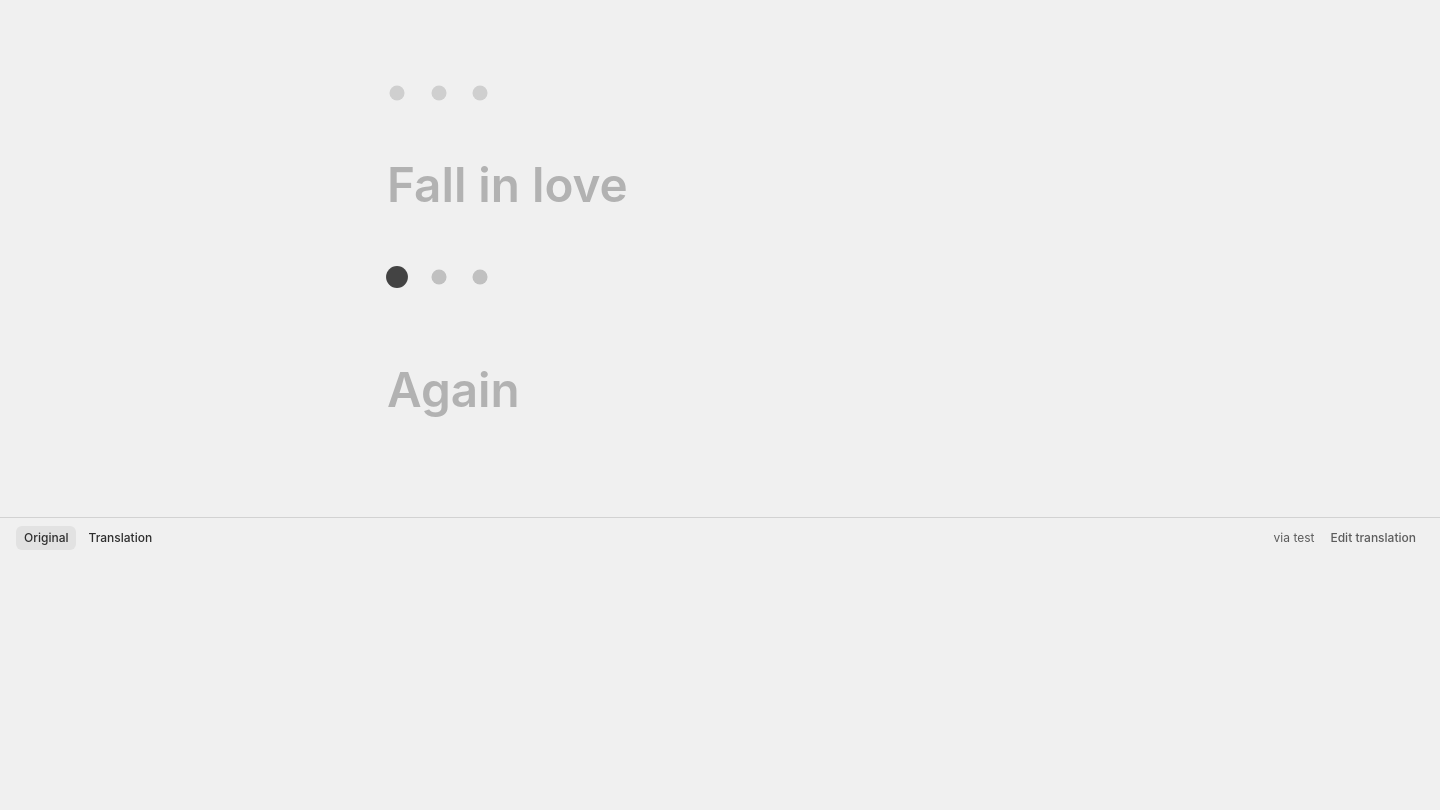
the lane under a line › keeps the original words and adds the translation beneath
The image size is (1440, 810).
Click the button "Translation": x=120, y=538 [80,526,160,550]
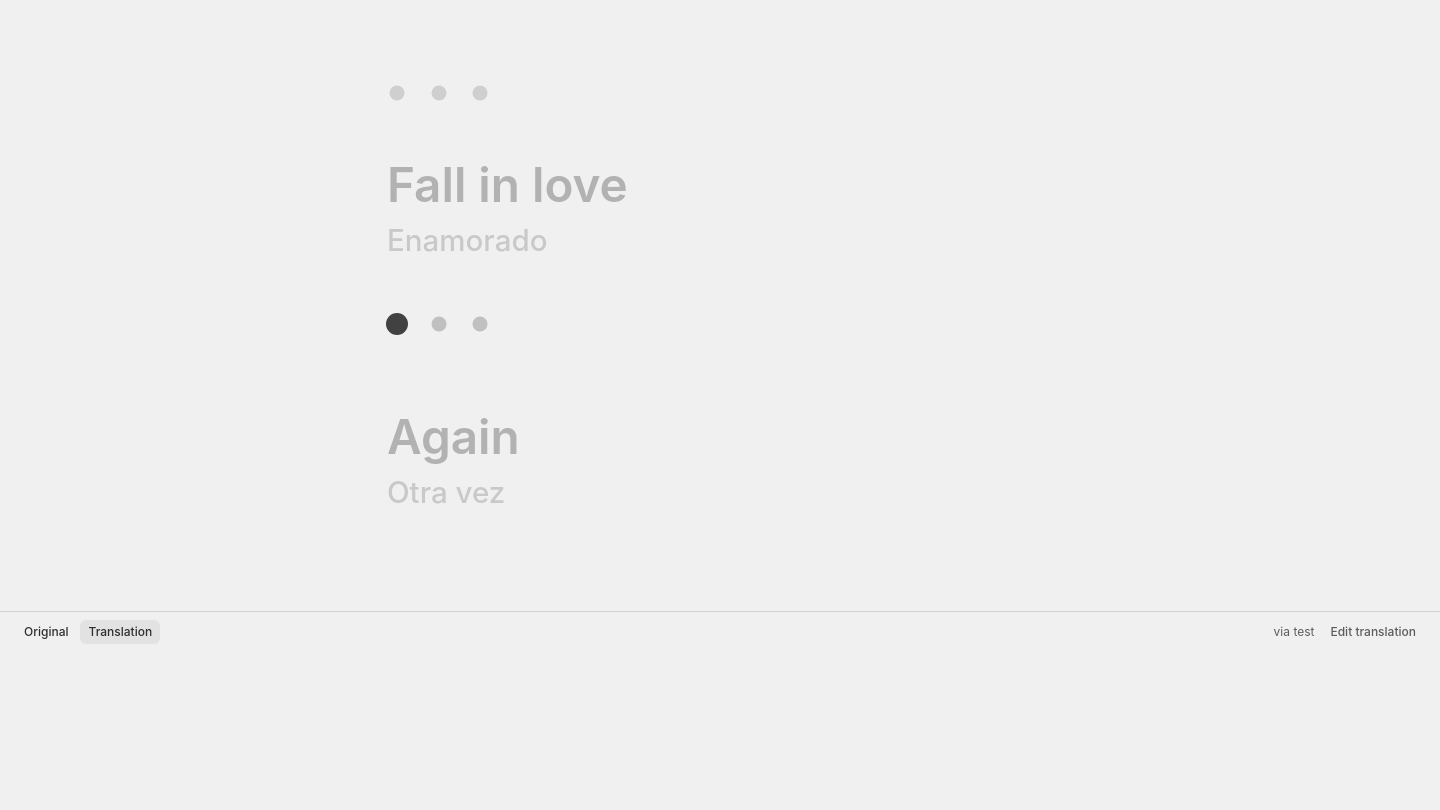
Expected: the button with class "lyric-line" shows "Fall in love", [387,156,628,258]
Expected: the text with class "lyric-secondary" reads "Enamorado", [387,222,547,258]
